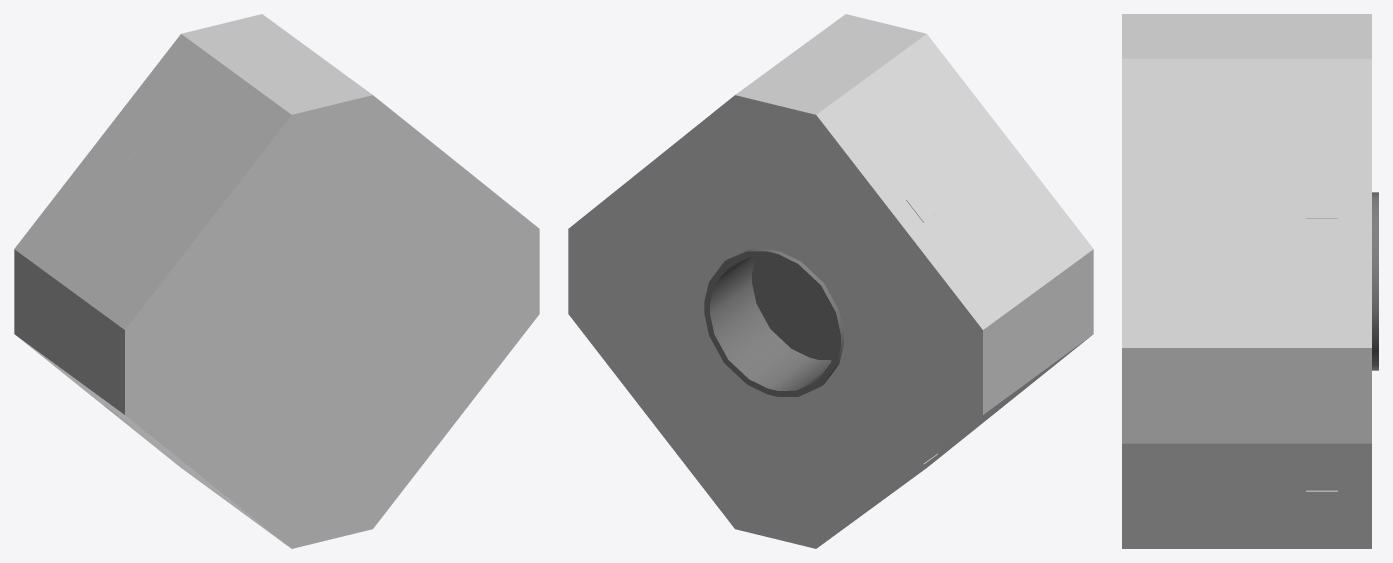
Rendered from ph_lander_fuselage.sturdy.gltf.
3 views of the same model, side by side, from view 1: azimuth 30°, elevation 25°; view 2: azimuth 150°, elevation 25°; view 3: azimuth 270°, elevation 25° (orthographic). The views are drawn at different scales.
Visible parts, largest first — view 1: landerFuselage; view 2: landerFuselage; view 3: landerFuselage.
Boxes of the visible parts, left/top/right/bottom form: landerFuselage: left=14, top=14, right=539, bottom=548; landerFuselage: left=568, top=14, right=1093, bottom=548; landerFuselage: left=1122, top=14, right=1378, bottom=548.
Bounding box in the file's own units: 3.06 × 3.06 × 1.46.
Materials: 1 (1 with a texture image).
